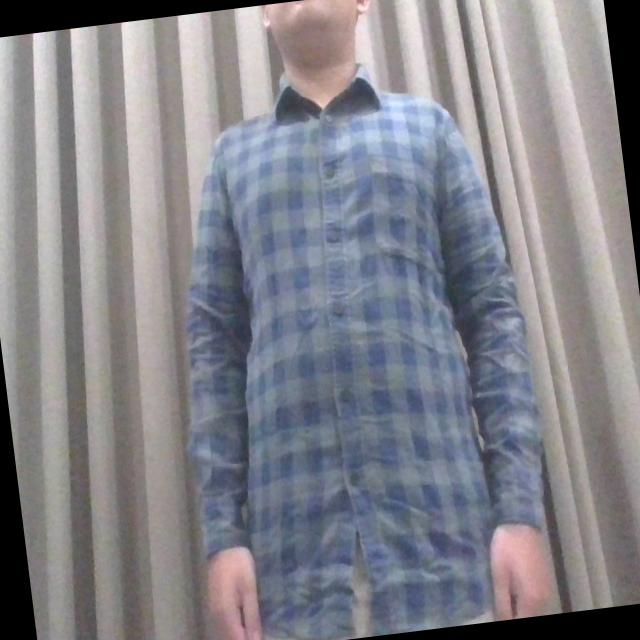long_Sleeve_shirt: (187, 78, 547, 640)
